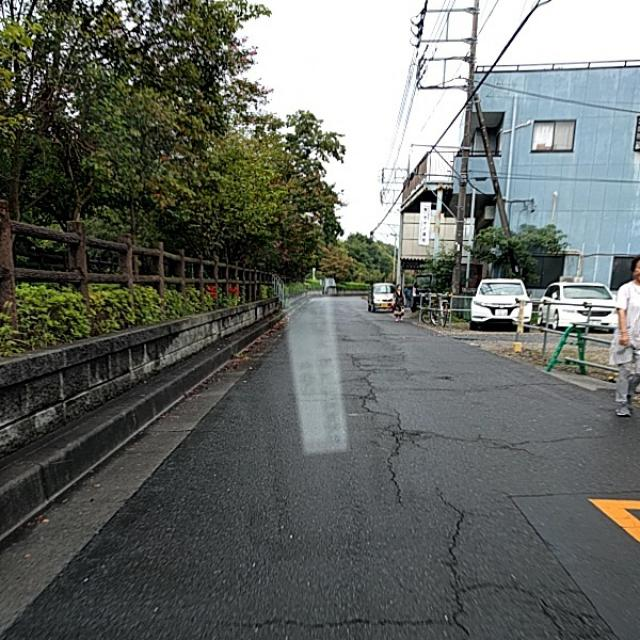pothole: (379, 413, 470, 572)
